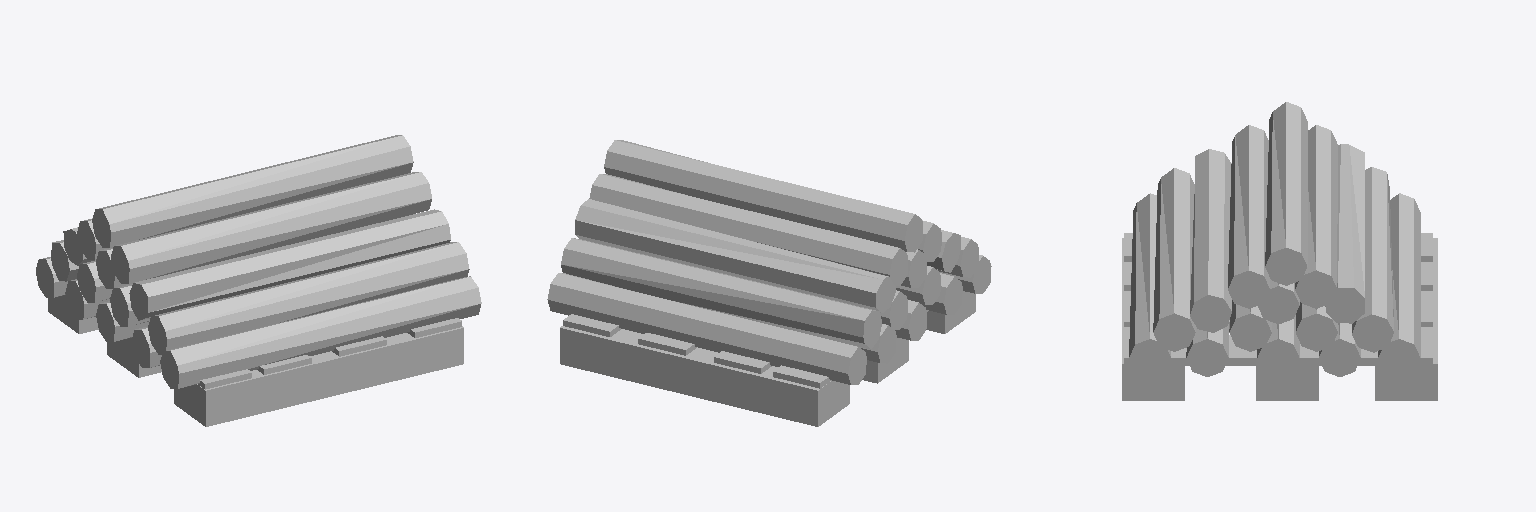
The model's file is Raw_Materials.obj.
3 views of the same model, side by side, from view 1: azimuth 30°, elevation 25°; view 2: azimuth 150°, elevation 25°; view 3: azimuth 270°, elevation 25° (orthographic).
Visible parts, largest first — view 1: Cylinder.012_Cylinder.027, Cylinder.014_Cylinder.024, Cylinder.003, Cylinder.008, Cylinder.011_Cylinder.026, Cube.007_Cube.010, Cylinder.006, Cylinder.002, Cube.002, Cube.000_Cube.011, Cylinder.007, Cylinder.000 (+6 smaller); view 2: Cylinder.010_Cylinder.025, Cylinder.005, Cylinder.000, Cylinder.014_Cylinder.024, Cube.000_Cube.011, Cylinder.013_Cylinder.028, Cube.007_Cube.010, Cylinder.004, Cube.002, Cylinder.007, Cylinder.002, Cylinder.011_Cylinder.026 (+10 smaller); view 3: Cylinder.014_Cylinder.024, Cylinder.011_Cylinder.026, Cylinder.012_Cylinder.027, Cylinder.008, Cylinder.013_Cylinder.028, Cylinder.000, Cylinder.005, Cylinder.010_Cylinder.025, Cylinder.003, Cube.000_Cube.011, Cube.007_Cube.010, Cube.002 (+10 smaller).
Part boxes in pixels (x1,y1,x2,y2): Cylinder.012_Cylinder.027: (111, 172, 431, 283); Cylinder.014_Cylinder.024: (92, 135, 413, 247); Cylinder.003: (160, 276, 481, 388); Cylinder.008: (148, 242, 469, 354); Cylinder.011_Cylinder.026: (129, 209, 450, 320); Cube.007_Cube.010: (174, 326, 463, 426); Cylinder.006: (77, 260, 112, 302); Cylinder.002: (96, 301, 149, 341); Cube.002: (107, 338, 161, 377); Cube.000_Cube.011: (48, 295, 98, 333); Cylinder.007: (110, 284, 149, 326); Cylinder.000: (36, 257, 75, 297); Cylinder.010_Cylinder.025: (575, 199, 895, 312); Cylinder.005: (561, 238, 881, 349); Cylinder.000: (547, 273, 866, 384); Cylinder.014_Cylinder.024: (604, 140, 922, 252); Cube.000_Cube.011: (560, 326, 849, 426); Cylinder.013_Cylinder.028: (589, 174, 907, 285); Cube.007_Cube.010: (926, 291, 975, 333); Cylinder.004: (923, 273, 962, 314); Cube.002: (862, 338, 908, 383); Cylinder.007: (896, 266, 940, 304); Cylinder.002: (895, 300, 926, 340); Cylinder.011_Cylinder.026: (927, 230, 960, 272); Cylinder.014_Cylinder.024: (1265, 102, 1307, 285); Cylinder.011_Cylinder.026: (1190, 149, 1231, 332); Cylinder.012_Cylinder.027: (1228, 125, 1269, 308); Cylinder.008: (1153, 168, 1195, 351); Cylinder.013_Cylinder.028: (1295, 125, 1337, 308); Cylinder.000: (1378, 193, 1420, 376); Cylinder.005: (1352, 167, 1393, 352); Cylinder.010_Cylinder.025: (1325, 144, 1364, 323); Cylinder.003: (1129, 193, 1170, 376); Cube.000_Cube.011: (1375, 238, 1437, 400); Cube.007_Cube.010: (1122, 238, 1184, 400); Cube.002: (1256, 364, 1318, 400).
Size of the model in its own units: 2.59 by 1.35 by 2.36.